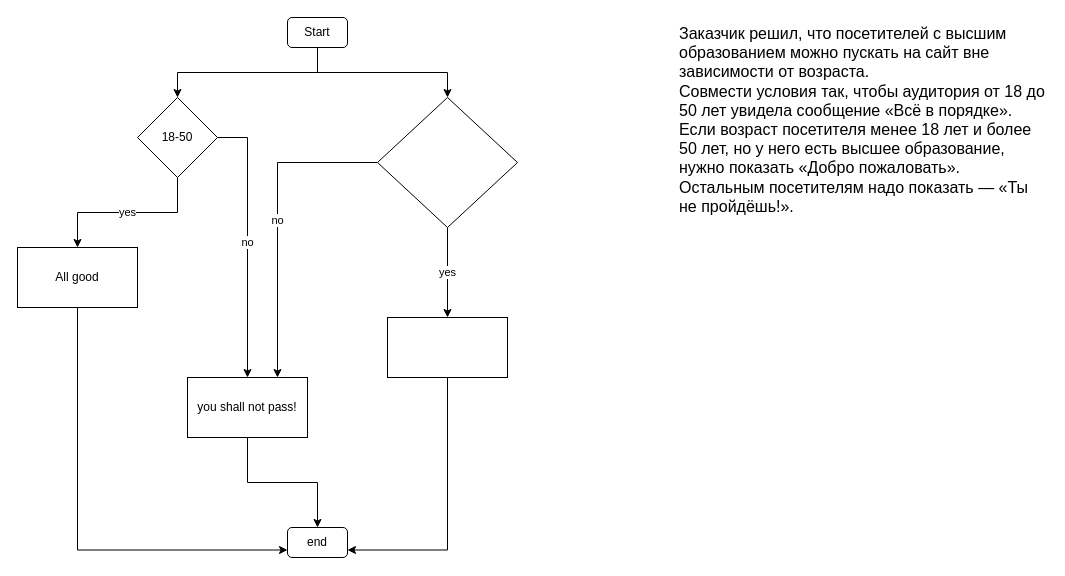
Image size: 1065x576. Some labels were removed from this diagram. Here are the shapes that lost their labels. From the top down, the centre of each, then its label:
At point (447, 162): "< 18 && > 50 && education == true".
At point (447, 347): "Welcome".
